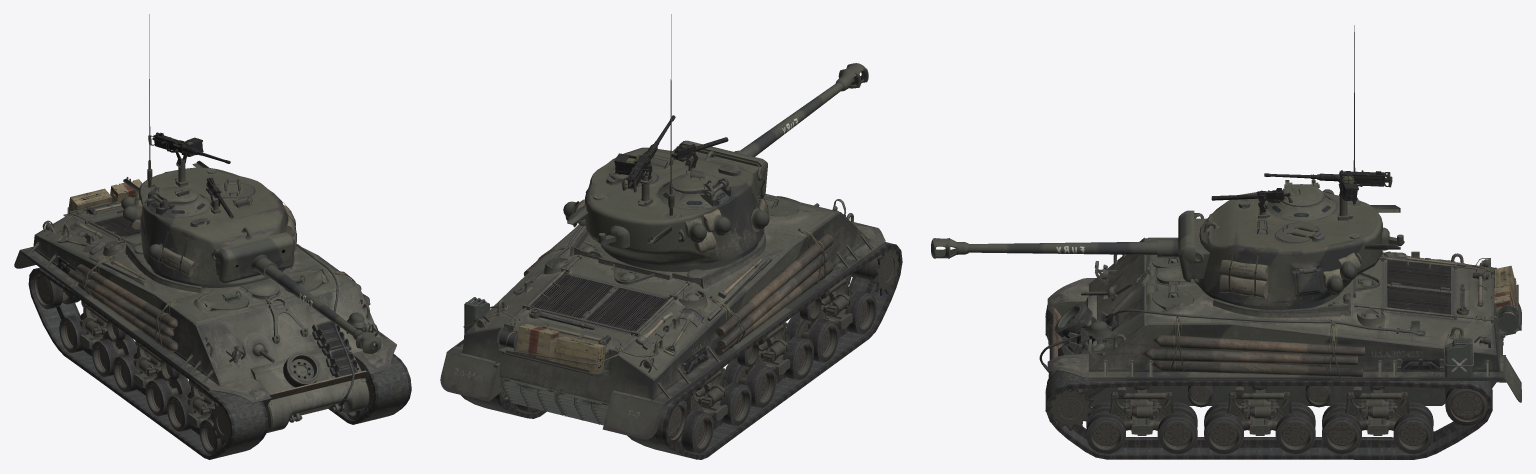
Rendered from Fury.fbx.
3 views of the same model, side by side, from view 1: azimuth 30°, elevation 25°; view 2: azimuth 150°, elevation 25°; view 3: azimuth 270°, elevation 25° (orthographic). The views are drawn at different scales.
Visible parts, largest first — view 1: american\A104_M4A3E8A\normal\l\Hull.pri~6~5, american\A104_M4A3E8A\normal\l\Turret_01.pri~6~6, american\A104_M4A3E8A\normal\l\Chassis.pri~6~2, american\A104_M4A3E8A\normal\l\Chassis.pri~6~3, american\A104_M4A3E8A\normal\l\Gun_01.pri~6~7, american\A104_M4A3E8A\normal\l\Chassis.pri~6~4; view 2: american\A104_M4A3E8A\normal\l\Hull.pri~6~5, american\A104_M4A3E8A\normal\l\Turret_01.pri~6~6, american\A104_M4A3E8A\normal\l\Chassis.pri~6~2, american\A104_M4A3E8A\normal\l\Chassis.pri~6~3, american\A104_M4A3E8A\normal\l\Gun_01.pri~6~7, american\A104_M4A3E8A\normal\l\Chassis.pri~6~4; view 3: american\A104_M4A3E8A\normal\l\Hull.pri~6~5, american\A104_M4A3E8A\normal\l\Turret_01.pri~6~6, american\A104_M4A3E8A\normal\l\Chassis.pri~6~1, american\A104_M4A3E8A\normal\l\Chassis.pri~6~4, american\A104_M4A3E8A\normal\l\Gun_01.pri~6~7.
Boxes of the visible parts, x1,y1,x2,y2 form: american\A104_M4A3E8A\normal\l\Hull.pri~6~5: (14,179,396,432); american\A104_M4A3E8A\normal\l\Turret_01.pri~6~6: (121,14,296,287); american\A104_M4A3E8A\normal\l\Chassis.pri~6~2: (33,272,268,455); american\A104_M4A3E8A\normal\l\Chassis.pri~6~3: (28,267,268,459); american\A104_M4A3E8A\normal\l\Gun_01.pri~6~7: (211,232,381,353); american\A104_M4A3E8A\normal\l\Chassis.pri~6~4: (328,354,411,424); american\A104_M4A3E8A\normal\l\Hull.pri~6~5: (440,193,885,439); american\A104_M4A3E8A\normal\l\Turret_01.pri~6~6: (563,14,769,271); american\A104_M4A3E8A\normal\l\Chassis.pri~6~2: (667,244,899,453); american\A104_M4A3E8A\normal\l\Chassis.pri~6~3: (627,242,902,459); american\A104_M4A3E8A\normal\l\Gun_01.pri~6~7: (673,63,868,198); american\A104_M4A3E8A\normal\l\Chassis.pri~6~4: (461,363,546,418); american\A104_M4A3E8A\normal\l\Hull.pri~6~5: (1039,237,1521,435); american\A104_M4A3E8A\normal\l\Turret_01.pri~6~6: (1187,25,1404,309); american\A104_M4A3E8A\normal\l\Chassis.pri~6~1: (1045,372,1488,454); american\A104_M4A3E8A\normal\l\Chassis.pri~6~4: (1045,371,1492,459); american\A104_M4A3E8A\normal\l\Gun_01.pri~6~7: (931,210,1204,282).
Size of the model in its own units: 3.11 by 5.35 by 7.51.
Materials: 5 (5 with a texture image).
